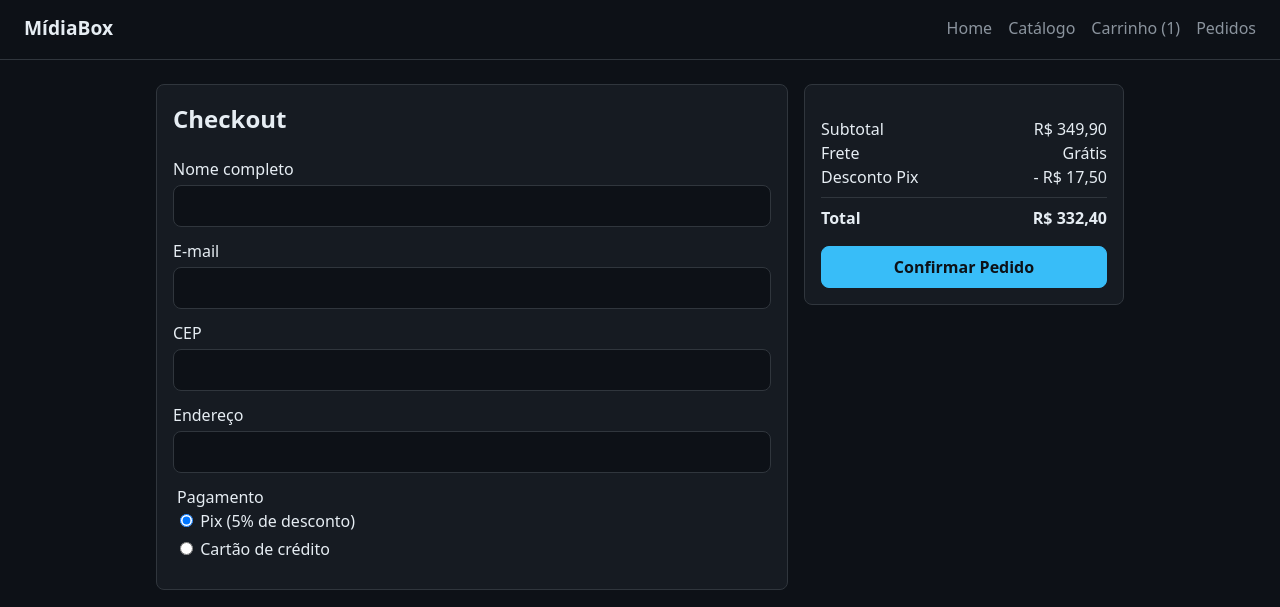
it: página Checkout › confirma o pedido, esvazia o carrinho e abre Pedidos
This screenshot has width=1280, height=607.
Type "Ana Souza" into the field labelled "Nome completo" at [472, 206], box [173,185,771,227]
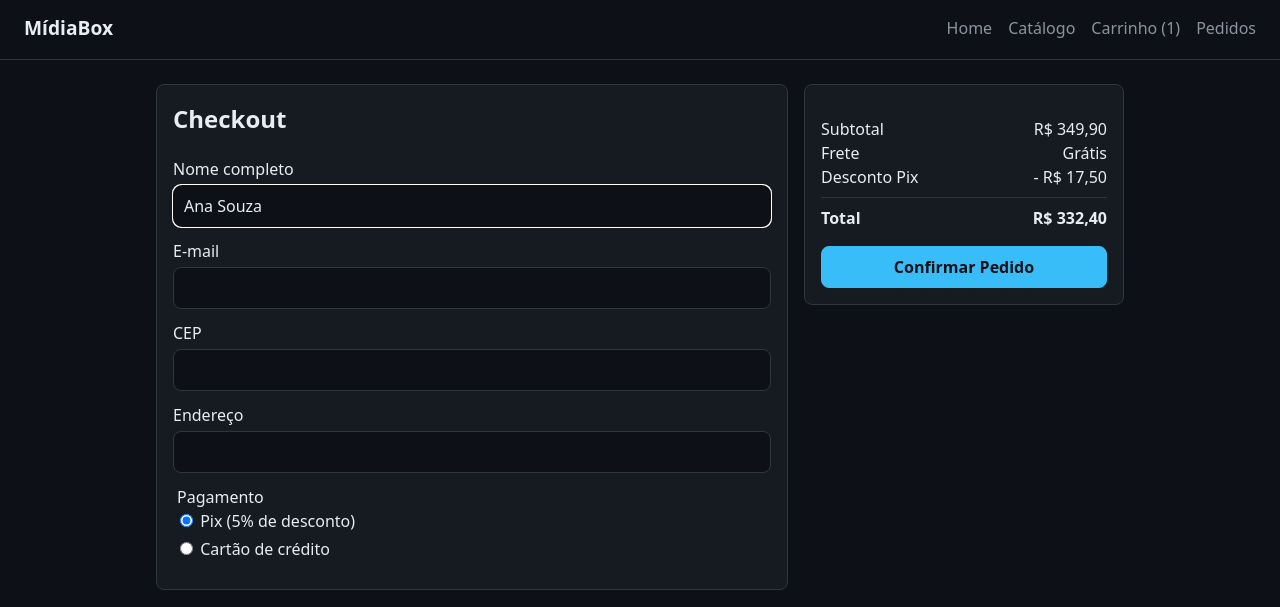
Type "ana@email.com" into the field labelled "E-mail" at [472, 288], box [173,267,771,309]
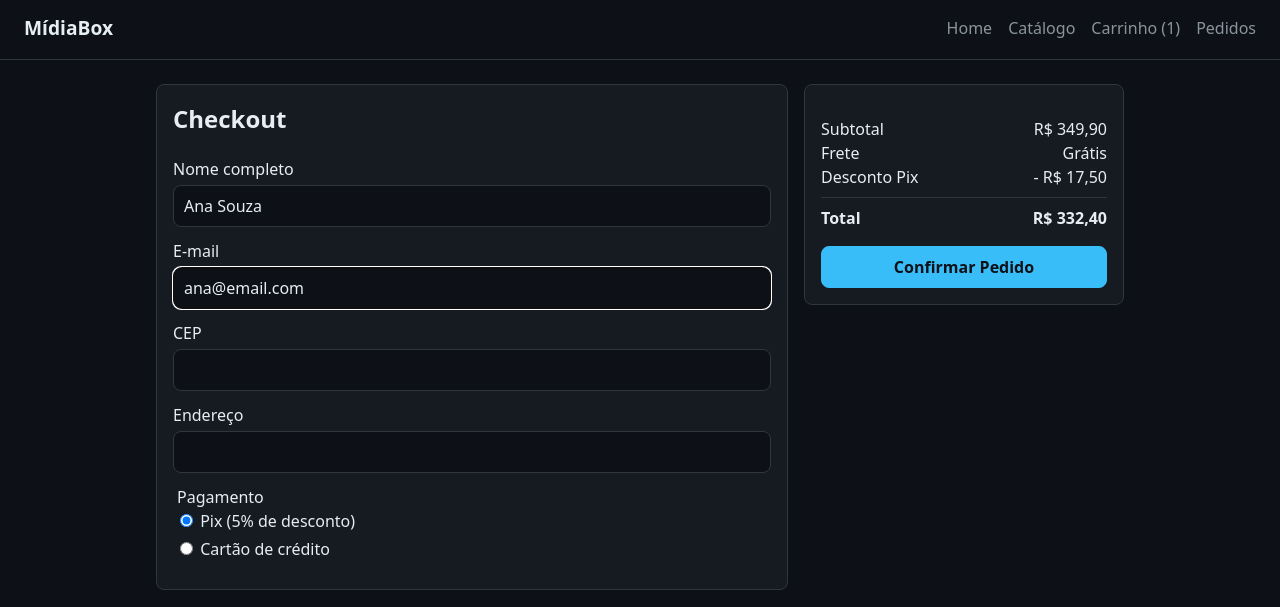
Type "17700-000" into the field labelled "CEP" at [472, 370], box [173,349,771,391]
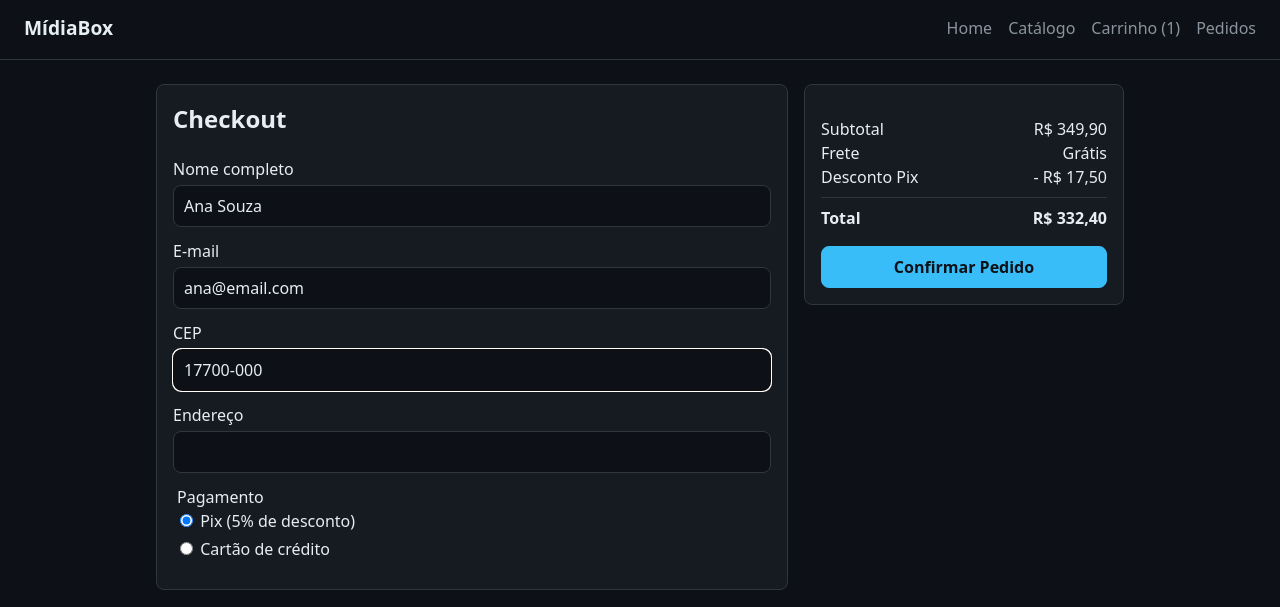
Type "Rua das Flores, 10" into the field labelled "Endereço" at [472, 452], box [173,431,771,473]
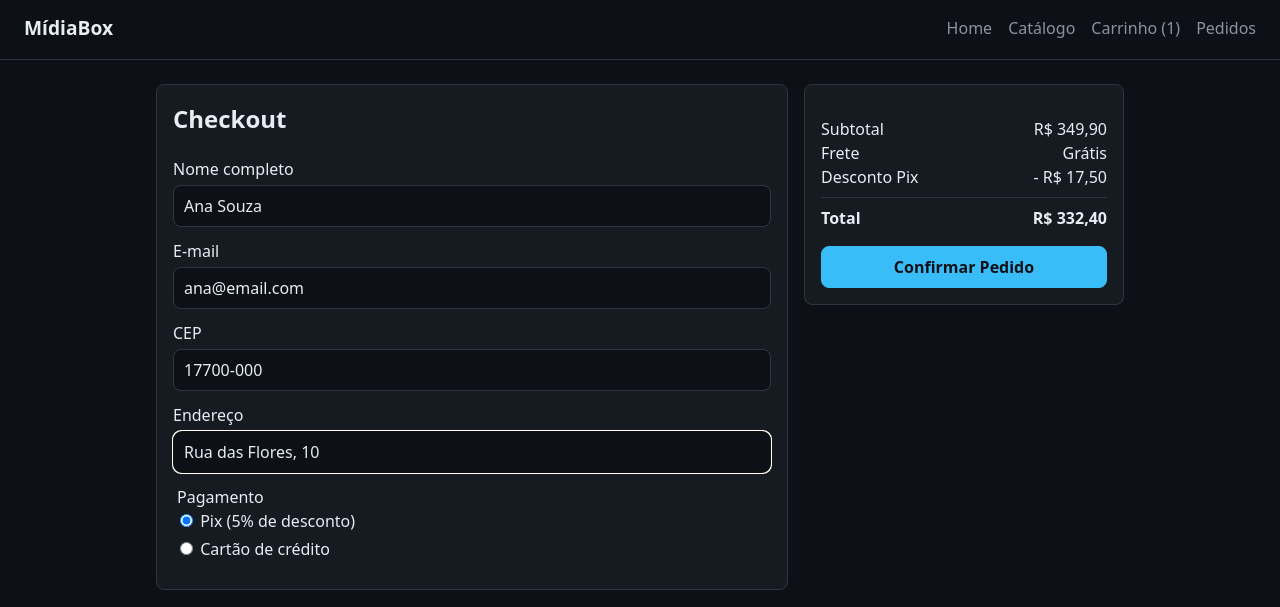
Click the button "Confirmar Pedido" at [964, 267], box [821,246,1107,288]
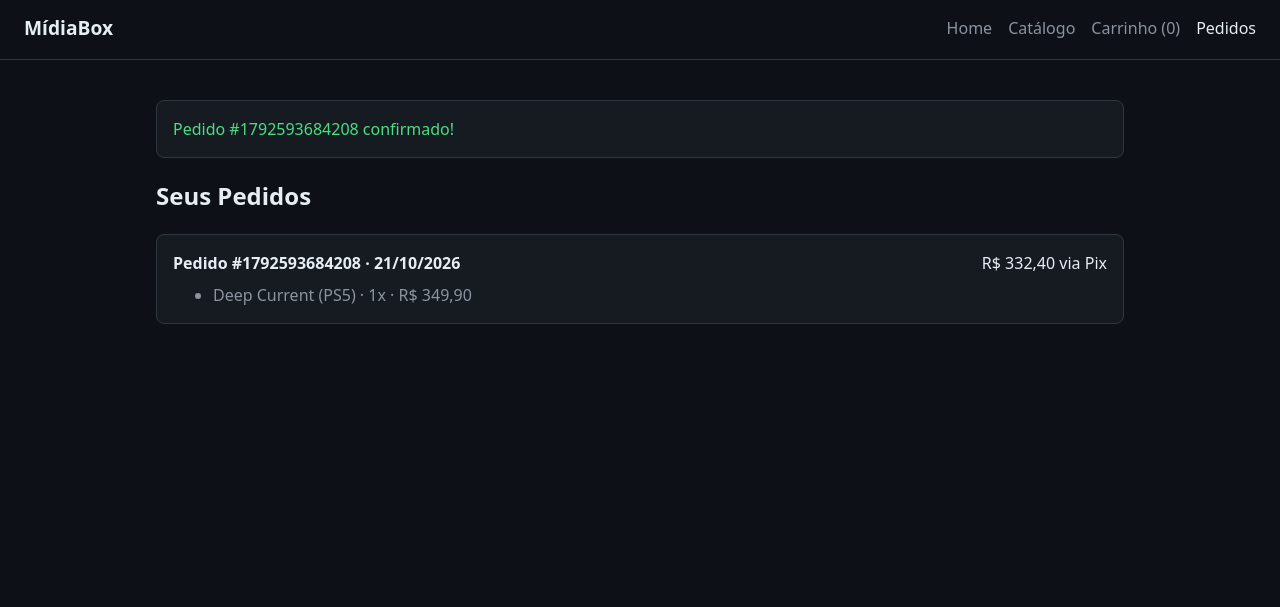
Check: the message reads "Pedido #1792593684208 confirmado!", box [156,100,1124,158]
Check: the link "Carrinho (0)" is shown, box [1091,16,1180,40]
